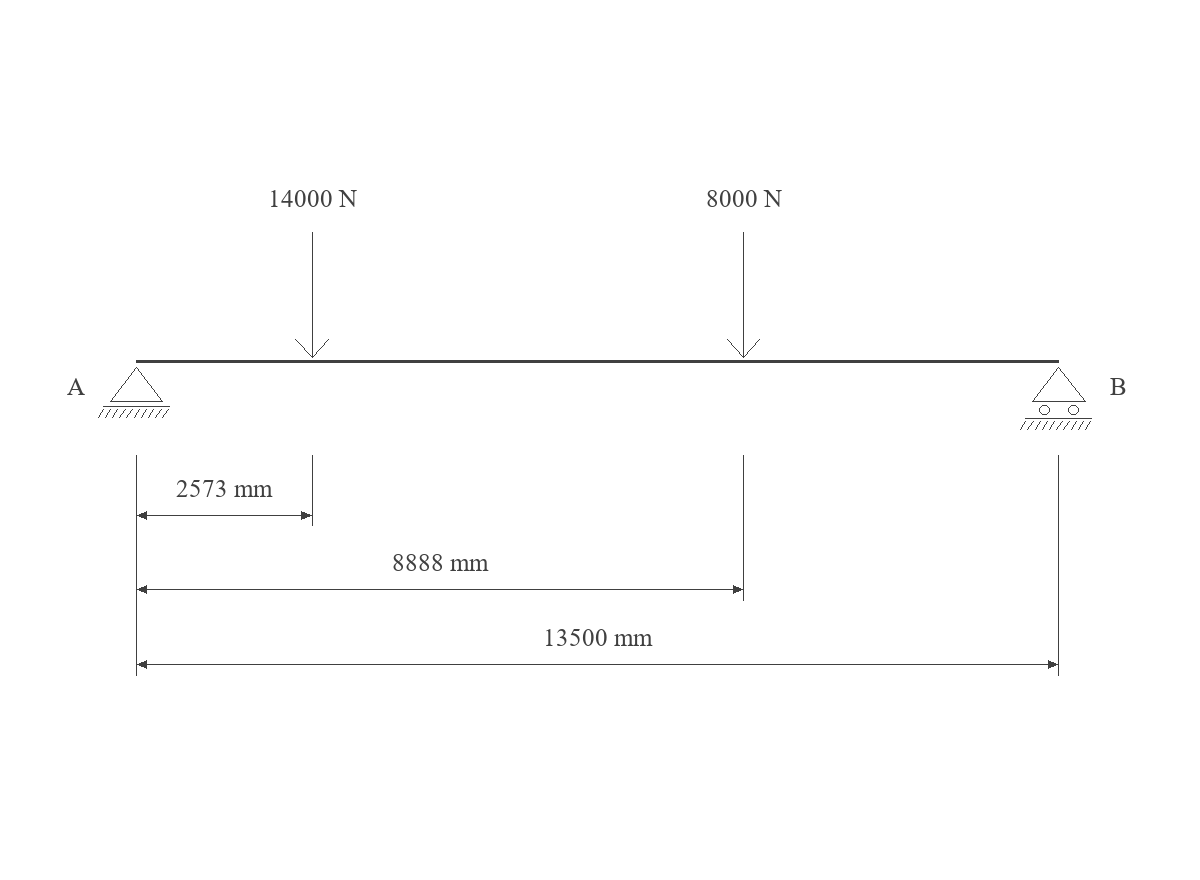pin_support: (98, 367, 170, 418)
point_load: (295, 232, 329, 358), (727, 232, 760, 358)
roller_support: (1020, 367, 1092, 430)
